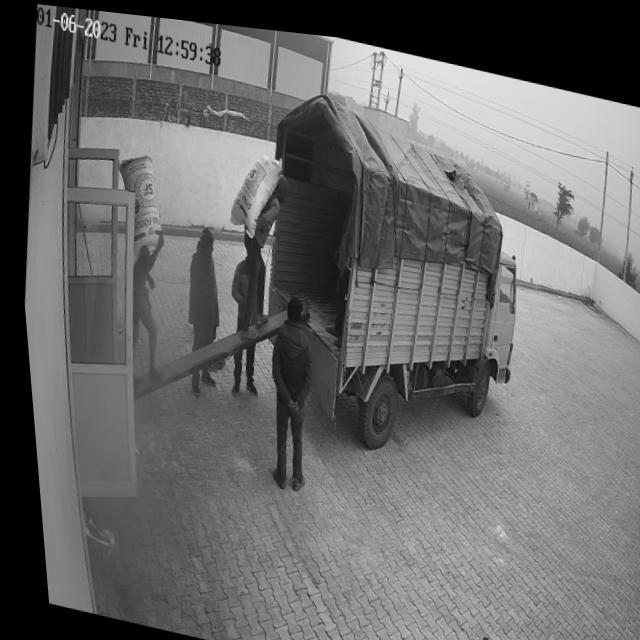sack: (103, 144, 169, 254), (220, 142, 286, 239)
